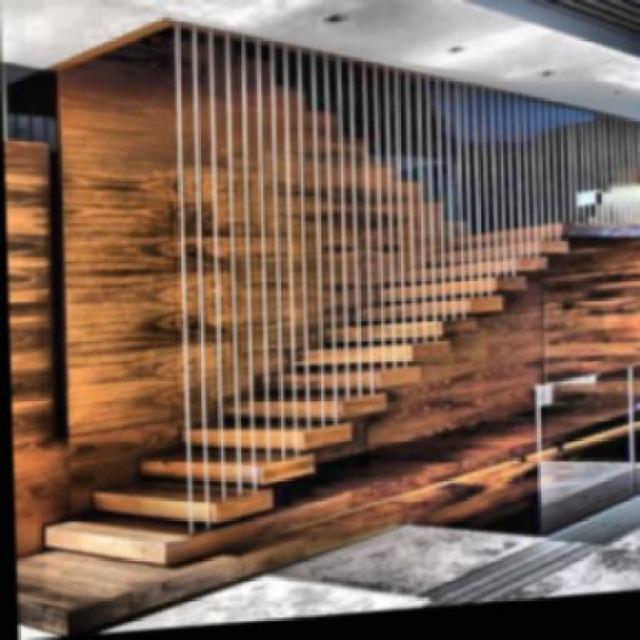stair: (36, 222, 638, 572)
